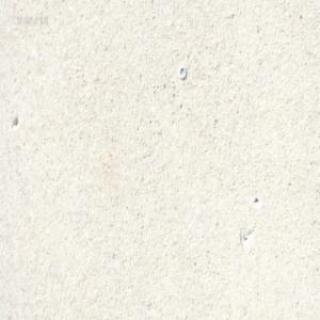Washertrack_idkeyframe: (177, 64, 185, 78)
